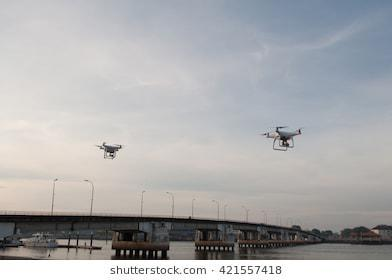drone: (257, 122, 306, 155), (93, 135, 127, 164)
